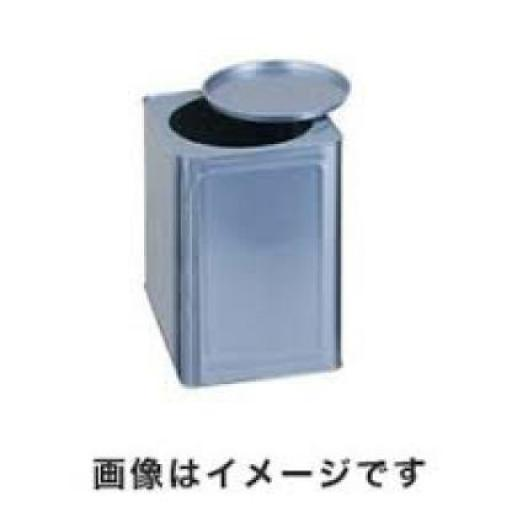metal: (141, 86, 341, 387), (199, 60, 350, 124)
